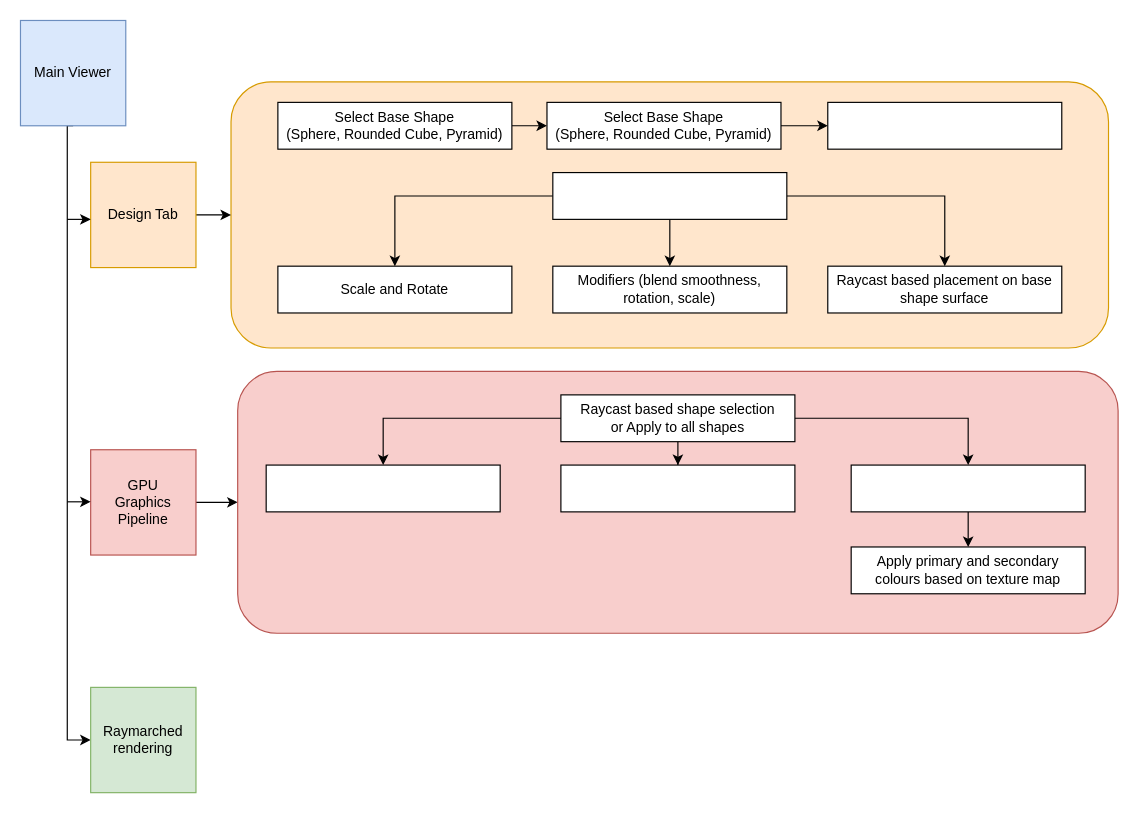
This 1140x813 diagram has some shape labels left out. Each missing label, with the centre of its shape:
Add up to 4 accessory shapes: point 669,195
Apply generic colour: point 382,488
Apply material modifiers (glossiness, transparency, etc.): point 677,488
Modifiers (edge sharpness, roundness, etc.): point 944,125
Texture mapping: point 967,488
